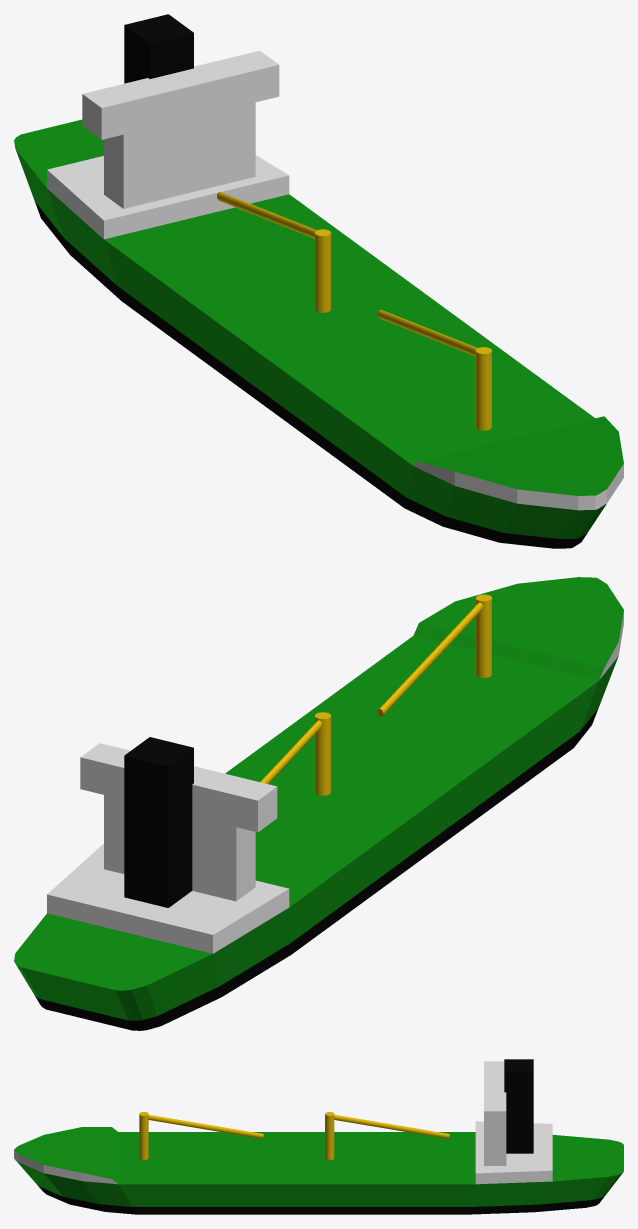
The model's file is cargo.glb.
3 views of the same model, one above another, from view 1: azimuth 30°, elevation 25°; view 2: azimuth 150°, elevation 25°; view 3: azimuth 270°, elevation 25° (orthographic). The views are drawn at different scales.
Visible parts, largest first — view 1: shipbase, Cube, Cube.001, Cylinder, Cylinder.003, Cylinder.001, Cylinder.002; view 2: shipbase, Cube, Cube.001, Cylinder.003, Cylinder, Cylinder.001, Cylinder.002; view 3: shipbase, Cube.001, Cube, Cylinder.002, Cylinder.001, Cylinder, Cylinder.003.
Part boxes in pixels (x1=…): shipbase: x1=14, y1=119, x2=623, y2=548; Cube: x1=82, y1=50, x2=279, y2=208; Cube.001: x1=124, y1=14, x2=193, y2=83; Cylinder: x1=475, y1=347, x2=491, y2=430; Cylinder.003: x1=315, y1=229, x2=331, y2=312; Cylinder.001: x1=377, y1=309, x2=477, y2=356; Cylinder.002: x1=217, y1=191, x2=316, y2=238; shipbase: x1=14, y1=577, x2=623, y2=1030; Cube: x1=80, y1=743, x2=277, y2=901; Cube.001: x1=124, y1=737, x2=193, y2=907; Cylinder.003: x1=315, y1=712, x2=331, y2=795; Cylinder: x1=475, y1=594, x2=491, y2=677; Cylinder.001: x1=377, y1=602, x2=482, y2=716; Cylinder.002: x1=260, y1=720, x2=321, y2=784; shipbase: x1=14, y1=1121, x2=623, y2=1214; Cube.001: x1=504, y1=1059, x2=533, y2=1153; Cube: x1=484, y1=1061, x2=506, y2=1165; Cylinder.002: x1=334, y1=1114, x2=449, y2=1138; Cylinder.001: x1=148, y1=1115, x2=263, y2=1138; Cylinder: x1=139, y1=1112, x2=148, y2=1159; Cylinder.003: x1=325, y1=1112, x2=334, y2=1159.
Size of the model in its own units: 17.98 by 20.14 by 88.75.
